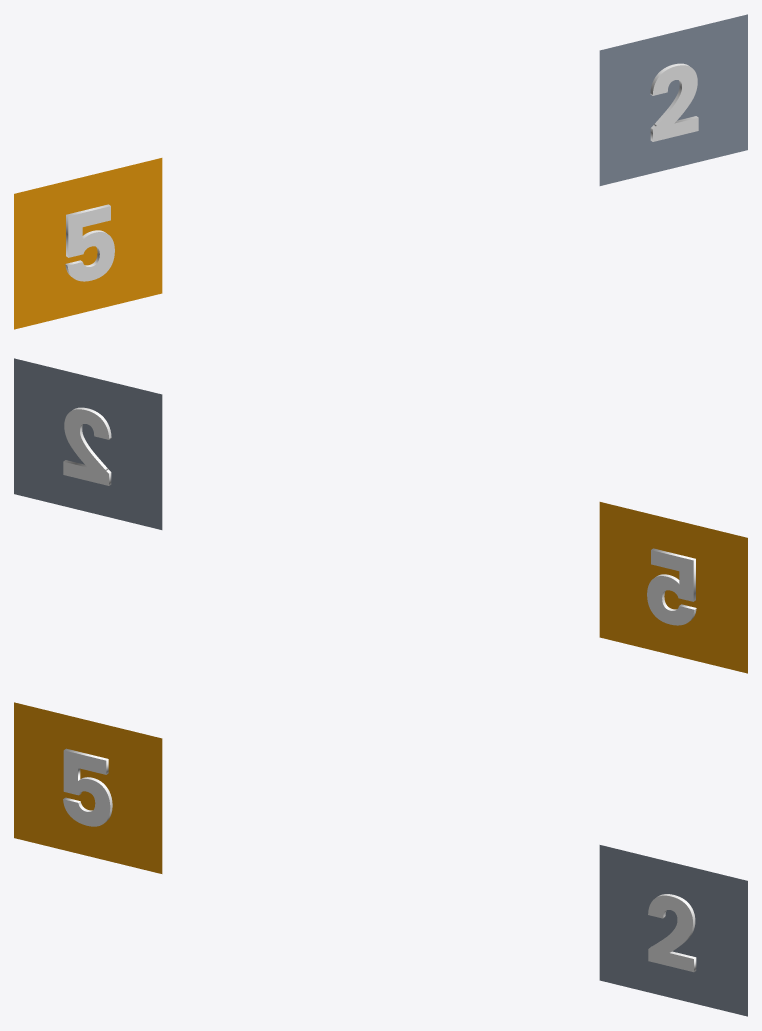
Rendered from sayi4.gltf.
The picture shows the model from 3 angles, top to bottom: view 1: azimuth 30°, elevation 25°; view 2: azimuth 150°, elevation 25°; view 3: azimuth 330°, elevation 25°; orthographic projection.
Parts seen in each view (by area): view 1: Plane.023, Plane.022, Text.071, Text.072; view 2: Plane.023, Plane.022, Text.071, Text.072; view 3: Plane.023, Plane.022, Text.071, Text.072.
Part boxes in pixels (<box>): Plane.023: <box>599,14,747,185</box>; Plane.022: <box>14,158,162,329</box>; Text.071: <box>65,204,114,281</box>; Text.072: <box>650,63,698,141</box>; Plane.023: <box>14,358,162,529</box>; Plane.022: <box>599,502,747,673</box>; Text.071: <box>647,548,696,625</box>; Text.072: <box>63,407,111,485</box>; Plane.023: <box>599,845,747,1016</box>; Plane.022: <box>14,702,162,873</box>; Text.071: <box>63,748,112,826</box>; Text.072: <box>648,894,696,972</box>.
Bounding box in the file's own units: 0.396 × 0.0702 × 0.00435.
